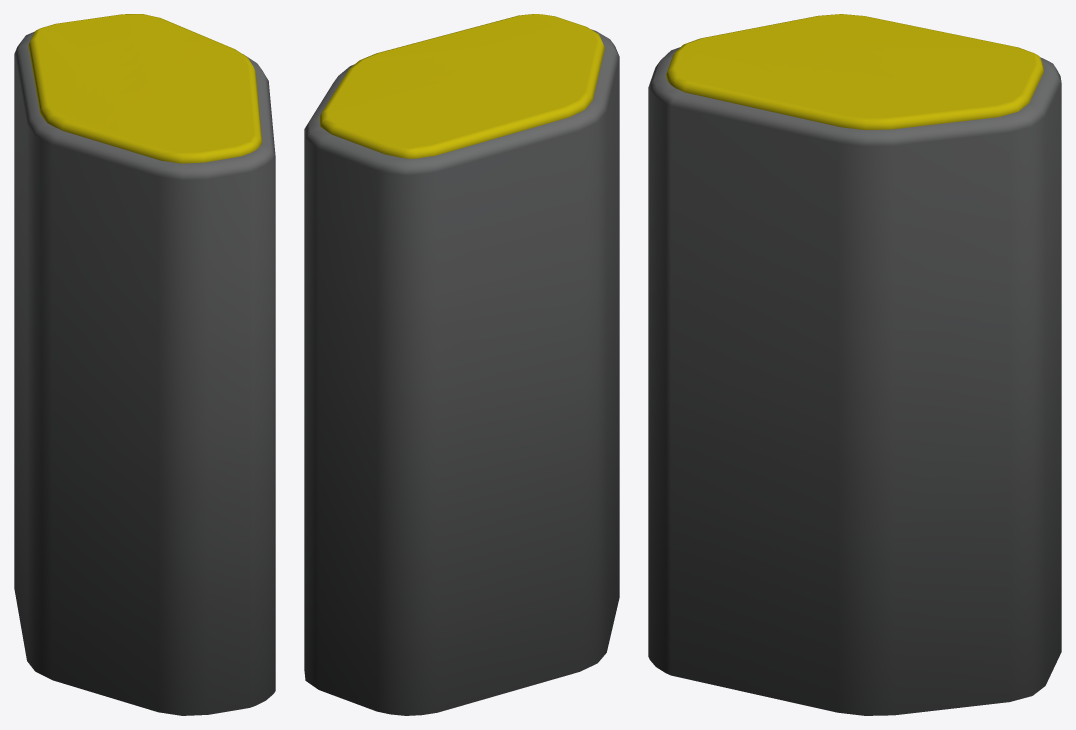
File: DayRock2.fbx
The picture shows the model from 3 angles, left to right: view 1: azimuth 30°, elevation 25°; view 2: azimuth 150°, elevation 25°; view 3: azimuth 270°, elevation 25°; orthographic projection. The views are drawn at different scales.
Visible parts, largest first — view 1: Rock2.003; view 2: Rock2.003; view 3: Rock2.003.
Part boxes in pixels (x1,y1,x2,y2): Rock2.003: [14, 14, 275, 715]; Rock2.003: [304, 14, 619, 715]; Rock2.003: [648, 14, 1061, 715].
Size of the model in its own units: 858 by 1906 by 1213.
